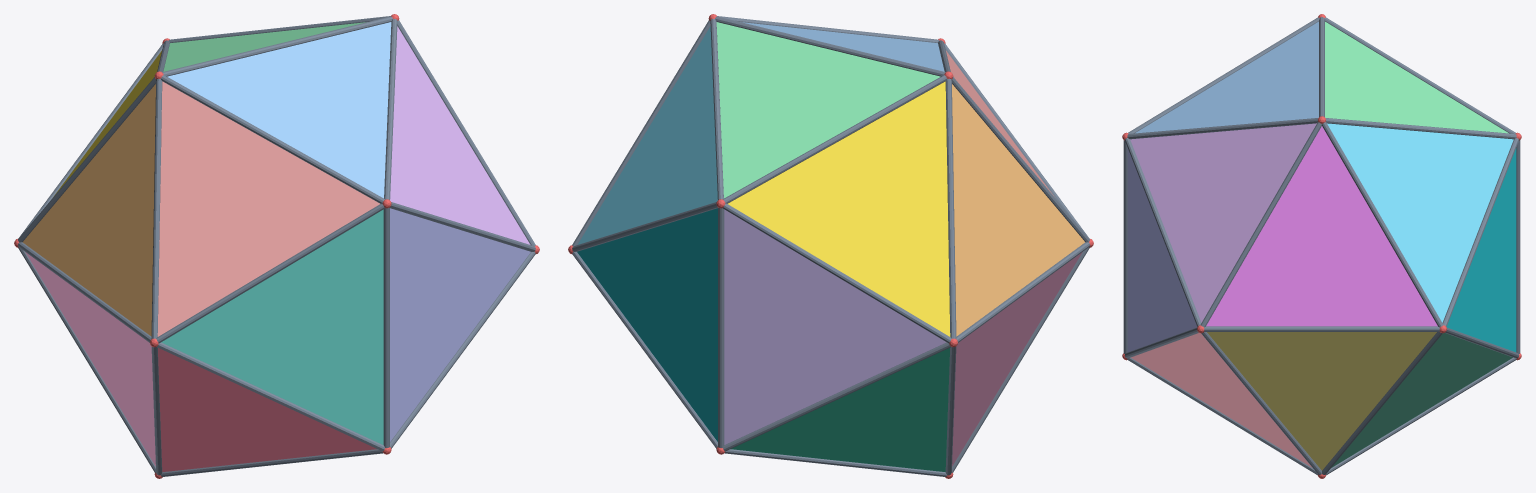
The model's file is haimuoimat.glb.
3 renders of one model, left to right at view 1: azimuth 30°, elevation 25°; view 2: azimuth 150°, elevation 25°; view 3: azimuth 270°, elevation 25°, orthographic. The views are drawn at different scales.
Visible parts, largest first — view 1: world; view 2: world; view 3: world.
Part boxes in pixels (bbox=[...]): world: bbox=[14, 14, 539, 478]; world: bbox=[568, 14, 1093, 478]; world: bbox=[1122, 14, 1521, 478].
Bounding box in the file's own units: 0.2921 × 0.2921 × 0.2921.
